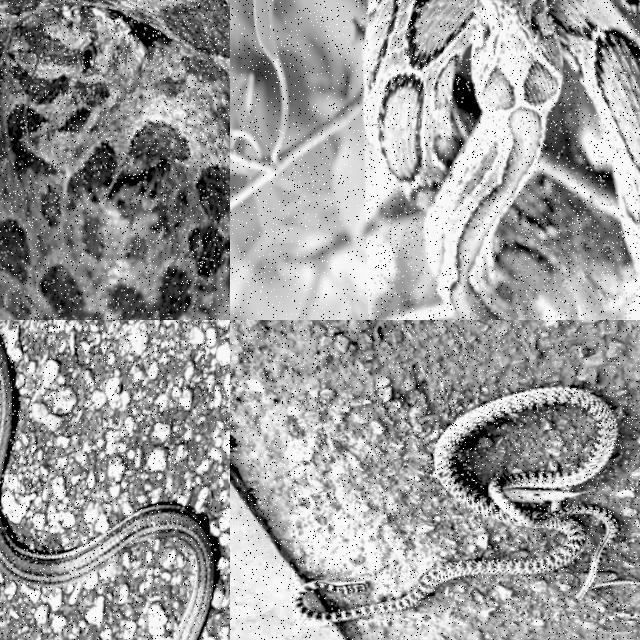Calliophis intestinalis: (0, 504, 215, 639)
Chrysopelea ornata: (292, 386, 639, 621)
Daboia siamensis: (364, 0, 639, 319), (0, 0, 229, 319)
